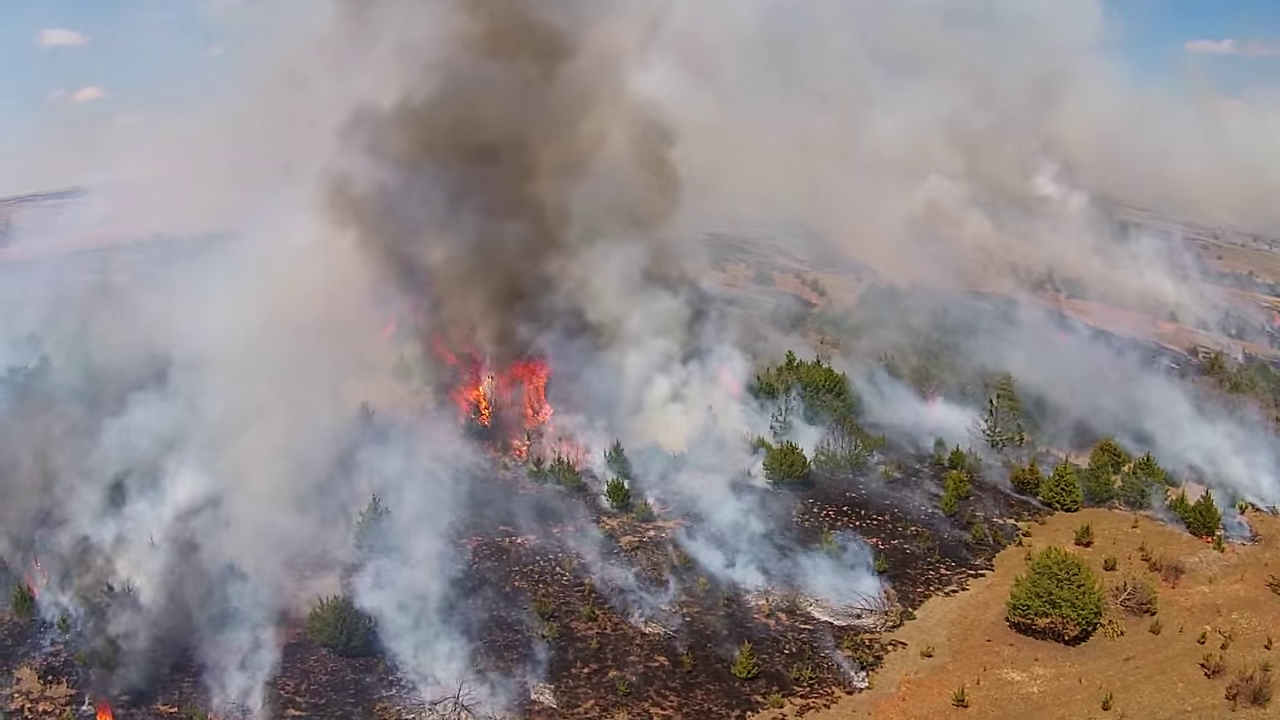forest_fire: (445, 353, 552, 431), (92, 697, 114, 719)
